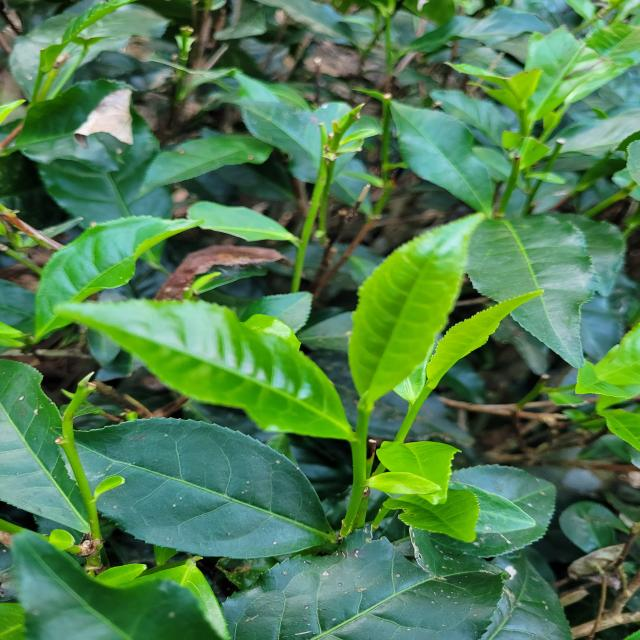Catagory A(1-2 days): (330, 197, 498, 406)
